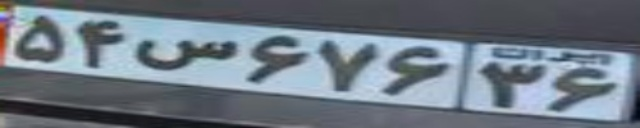3: (478, 60, 544, 109)
4: (76, 18, 127, 68)
5: (14, 14, 65, 62)
6: (381, 44, 450, 95), (244, 33, 307, 85), (551, 65, 616, 110)
7: (317, 37, 375, 94)
sin: (134, 38, 239, 72)
